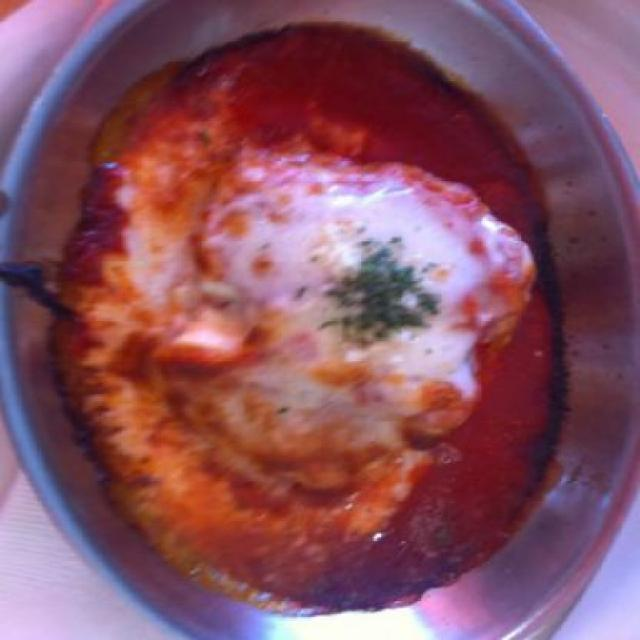Lasagna: (140, 153, 545, 509)
